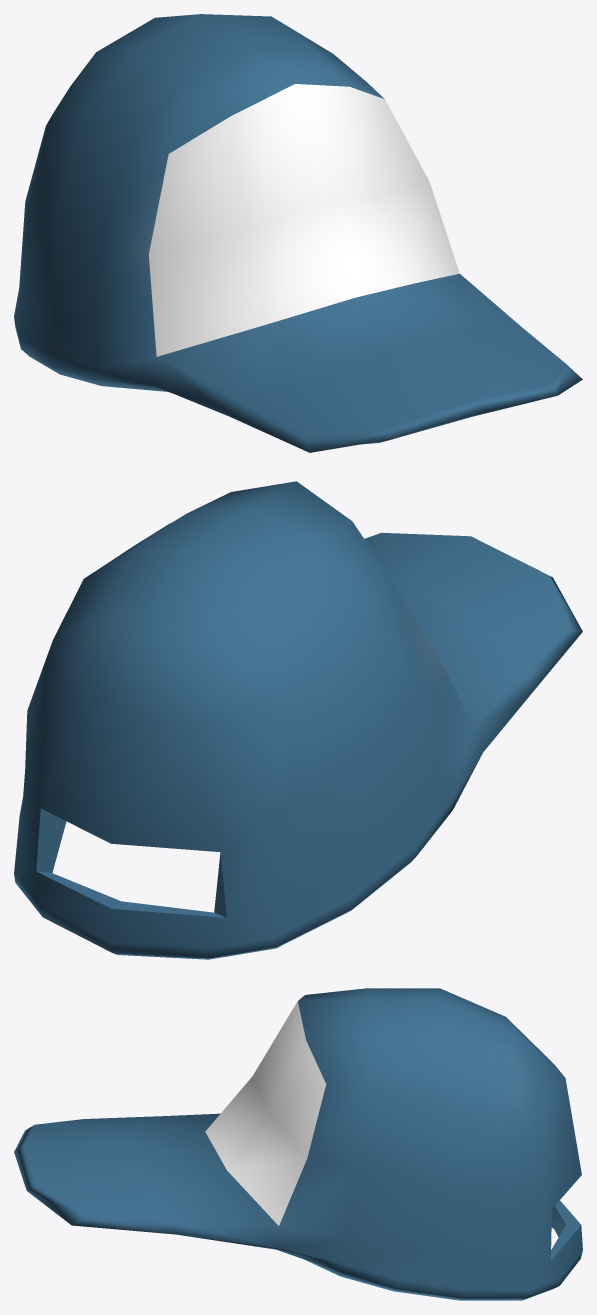
Rendered from Mechanic_Hat.fbx.
3 views of the same model, one above another, from view 1: azimuth 30°, elevation 25°; view 2: azimuth 150°, elevation 25°; view 3: azimuth 270°, elevation 25° (orthographic). The views are drawn at different scales.
Visible parts, largest first — view 1: Hat; view 2: Hat; view 3: Hat.
Part boxes in pixels (<box>): Hat: <box>14,14,582,452</box>; Hat: <box>14,481,582,959</box>; Hat: <box>14,988,582,1300</box>.
Bounding box in the file's own units: 16 × 14.57 × 28.37.
